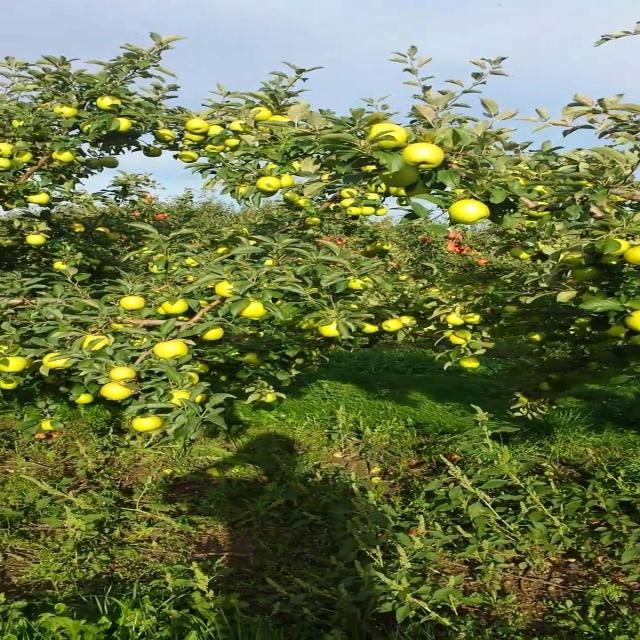apple: (404, 144, 446, 169), (369, 124, 407, 149), (454, 200, 491, 224), (383, 168, 420, 187), (156, 340, 190, 360), (134, 416, 164, 432), (120, 296, 148, 312), (84, 336, 112, 352), (106, 384, 133, 400), (561, 252, 588, 268), (575, 268, 604, 282), (241, 304, 268, 319), (163, 300, 190, 314), (404, 184, 432, 197), (99, 96, 121, 112), (170, 392, 192, 408), (525, 204, 551, 217), (113, 368, 137, 381), (511, 248, 537, 260), (163, 304, 190, 315), (255, 180, 279, 192), (612, 240, 631, 255), (625, 312, 639, 332), (13, 152, 36, 164), (6, 360, 28, 372), (113, 120, 135, 132), (319, 324, 341, 336), (184, 132, 206, 144), (205, 328, 226, 340), (383, 320, 404, 332), (291, 160, 316, 170), (156, 132, 178, 143), (49, 356, 69, 368), (625, 248, 639, 265), (191, 120, 208, 133), (56, 108, 78, 118), (611, 192, 631, 203), (340, 188, 359, 199), (255, 108, 272, 120), (220, 284, 235, 297), (561, 292, 578, 303), (461, 316, 484, 324), (205, 144, 228, 152), (269, 116, 292, 124), (184, 152, 199, 164), (56, 152, 76, 161), (348, 280, 366, 290), (184, 372, 199, 384), (348, 204, 363, 216), (28, 196, 50, 204), (99, 160, 121, 168), (362, 324, 379, 334), (461, 360, 482, 368), (404, 316, 418, 328), (284, 192, 299, 203), (364, 248, 379, 259), (362, 164, 380, 173), (28, 236, 48, 244), (148, 148, 164, 158), (234, 120, 247, 132), (284, 176, 297, 188), (42, 420, 55, 432), (184, 128, 206, 135), (611, 328, 628, 337), (369, 184, 386, 193), (340, 200, 359, 208), (390, 188, 409, 196), (454, 332, 475, 339), (454, 332, 468, 342), (575, 320, 592, 328), (532, 188, 549, 196), (376, 244, 393, 252), (248, 356, 263, 365), (447, 316, 462, 325), (6, 380, 21, 389), (604, 256, 619, 265), (77, 396, 92, 404), (227, 140, 242, 148), (362, 208, 377, 216), (348, 208, 363, 216), (262, 396, 277, 404), (184, 260, 199, 268), (376, 208, 391, 216), (298, 200, 313, 208), (326, 172, 338, 182), (70, 224, 85, 232), (305, 320, 318, 329), (504, 308, 523, 314), (454, 336, 468, 344), (212, 128, 226, 136), (532, 336, 546, 344), (13, 120, 27, 128), (6, 240, 20, 248), (198, 364, 212, 372), (532, 316, 546, 324), (148, 264, 160, 273), (6, 200, 18, 209), (540, 384, 553, 392), (198, 396, 210, 404), (6, 144, 14, 156), (582, 180, 594, 188), (220, 248, 233, 255), (99, 228, 112, 235), (305, 220, 320, 226), (348, 304, 363, 310), (49, 376, 60, 384), (364, 196, 382, 200), (84, 124, 92, 133), (56, 264, 69, 269), (6, 204, 18, 209), (632, 336, 639, 344), (156, 256, 169, 260), (241, 188, 249, 194), (106, 268, 116, 272), (269, 164, 277, 168)
